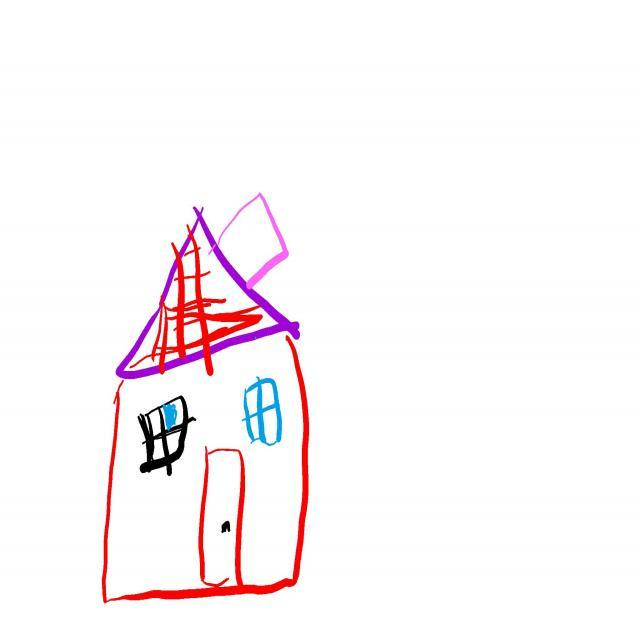chimney: (218, 194, 291, 288)
door: (201, 445, 244, 591)
house: (101, 194, 309, 604)
roof: (118, 203, 299, 379)
wall: (95, 329, 307, 602)
window: (136, 396, 188, 471), (245, 379, 281, 443)
